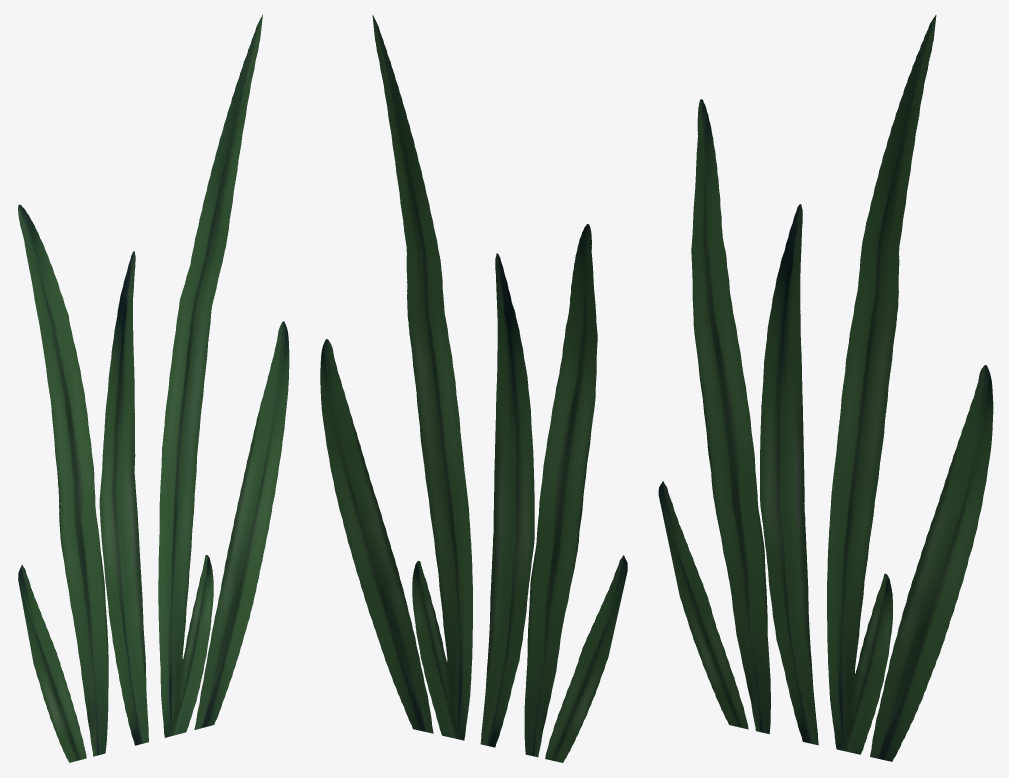
Rendered from plant_03.fbx.
The picture shows the model from 3 angles, left to right: view 1: azimuth 30°, elevation 25°; view 2: azimuth 150°, elevation 25°; view 3: azimuth 330°, elevation 25°; orthographic projection. The views are drawn at different scales.
Visible parts, largest first — view 1: plant_63; view 2: plant_63; view 3: plant_63.
Part boxes in pixels (left/top/right/bottom): plant_63: left=18, top=15, right=289, bottom=762; plant_63: left=320, top=15, right=627, bottom=762; plant_63: left=658, top=15, right=993, bottom=761.
Size of the model in its own units: 0.2857 by 0.6575 by 0.0352.
